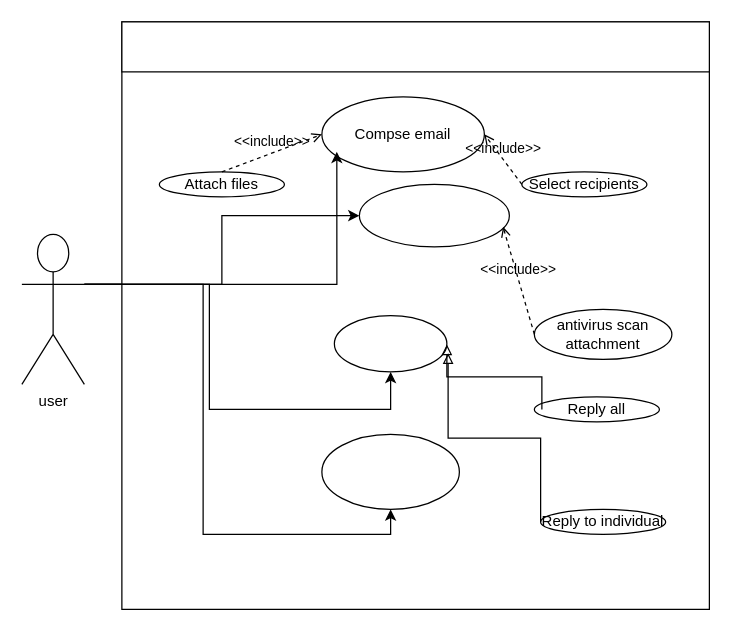
The diagram is 731 pixels wide and 631 high, and some of its shapes have lost their labels. Here are the shapes that lost their labels. From the top down, the centre of each, then its label:
At point 415,46: "USE CASE : Messaging system".
At point 433,215: "Send email".
At point 390,343: "Reply email".
At point 390,471: "Forward email".
